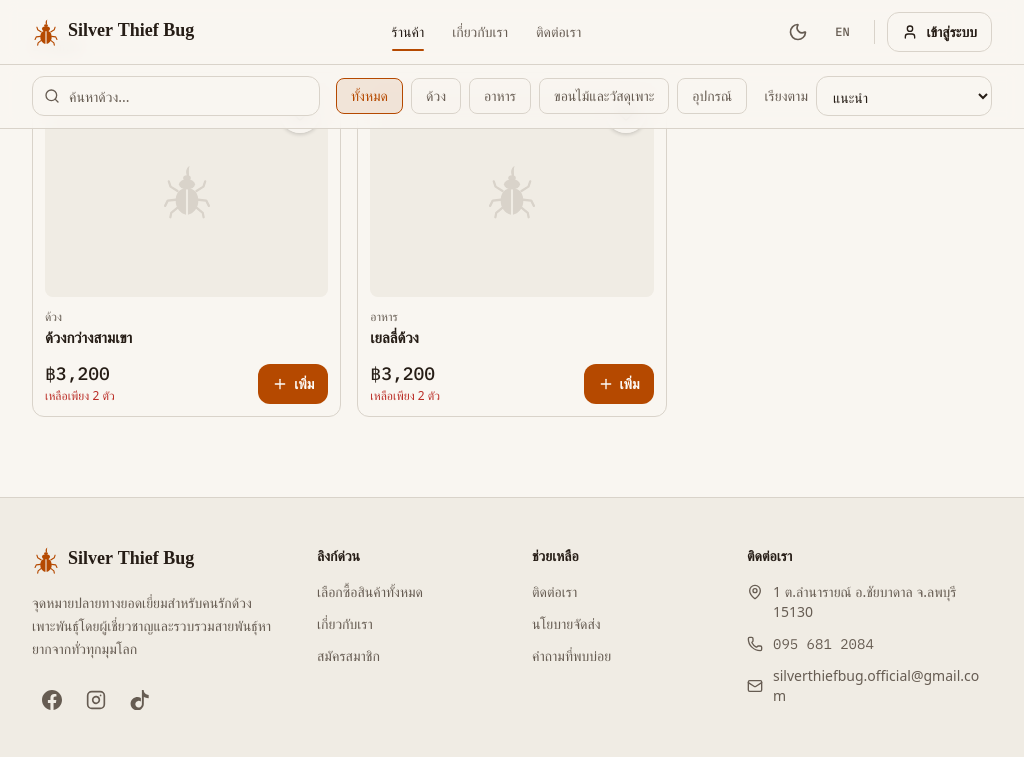
Cart and Favorites belong to signed-in Customers › a guest adding to the Cart is sent to login
(page scrolled)
Click the 1st button "เพิ่ม". click: click(293, 384)
box: [258, 364, 328, 404]
(page scrolled)
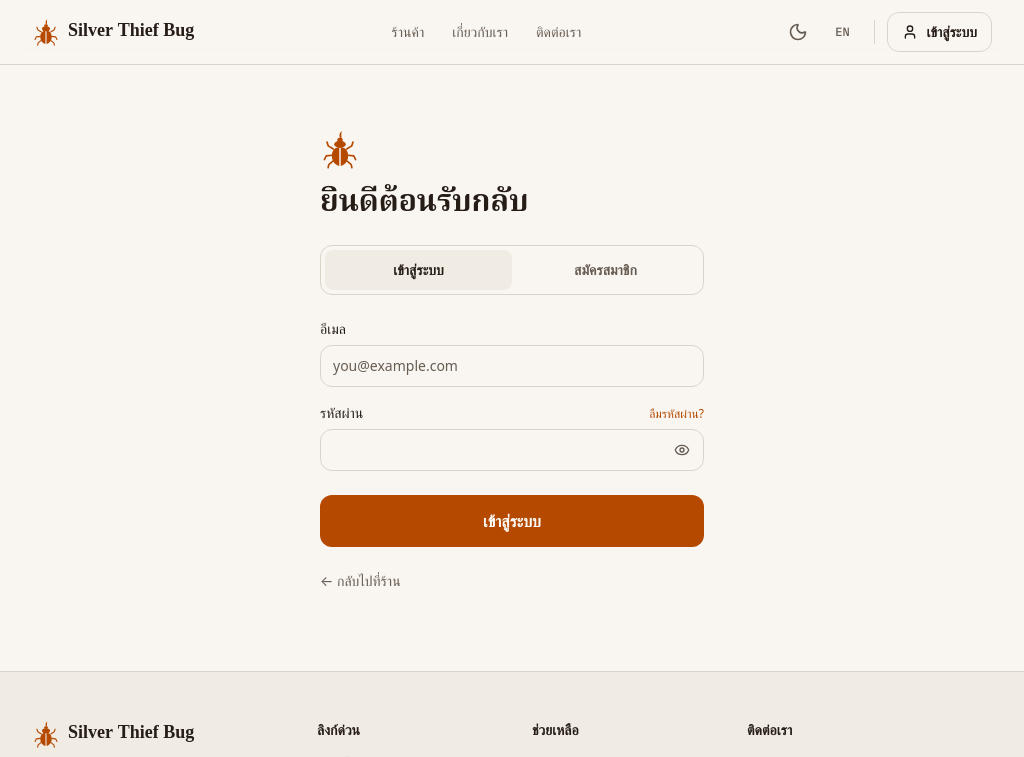
Result: the heading "ยินดีต้อนรับกลับ" is shown at [320, 179, 529, 227]
